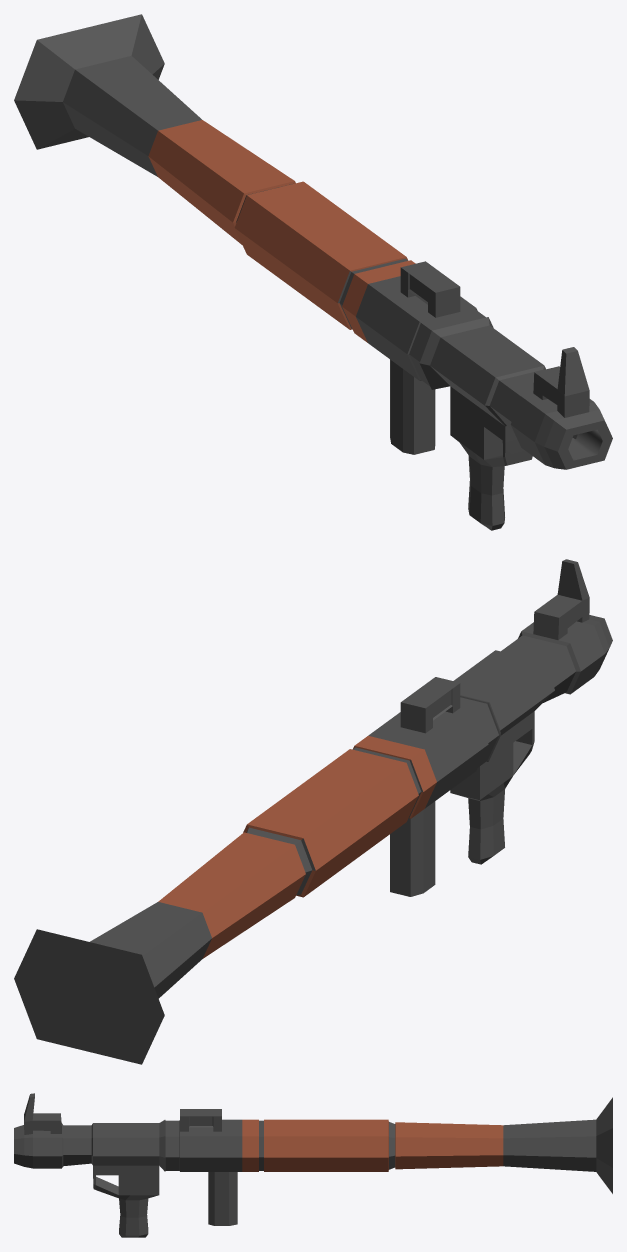
File: Bazooka_without_rocket.fbx
3 renders of one model, top to bottom at view 1: azimuth 30°, elevation 25°; view 2: azimuth 150°, elevation 25°; view 3: azimuth 270°, elevation 25°, orthographic. The views are drawn at different scales.
Parts seen in each view (by area): view 1: Cube.029; view 2: Cube.029; view 3: Cube.029.
Boxes of the visible parts, x1,y1,x2,y2 form: Cube.029: (14, 14, 612, 530); Cube.029: (14, 559, 612, 1064); Cube.029: (14, 1093, 612, 1237).
Bounding box in the file's own units: 11.32 × 16.78 × 64.49.
